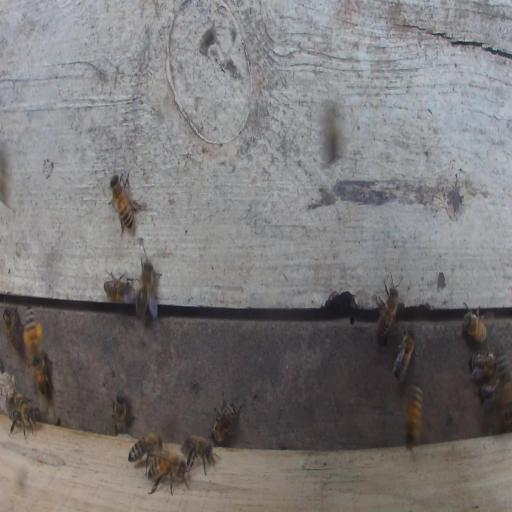bee: (147, 450, 189, 495), (133, 258, 162, 321), (109, 172, 137, 236), (373, 283, 400, 345), (210, 395, 241, 444), (183, 433, 217, 476), (23, 305, 43, 369), (393, 327, 416, 382), (404, 384, 423, 446), (8, 402, 39, 439), (127, 431, 162, 463), (462, 302, 487, 344), (102, 274, 134, 303), (3, 306, 22, 354), (468, 352, 498, 377), (478, 378, 499, 412), (112, 393, 127, 435), (35, 352, 49, 395), (502, 408, 512, 431)
